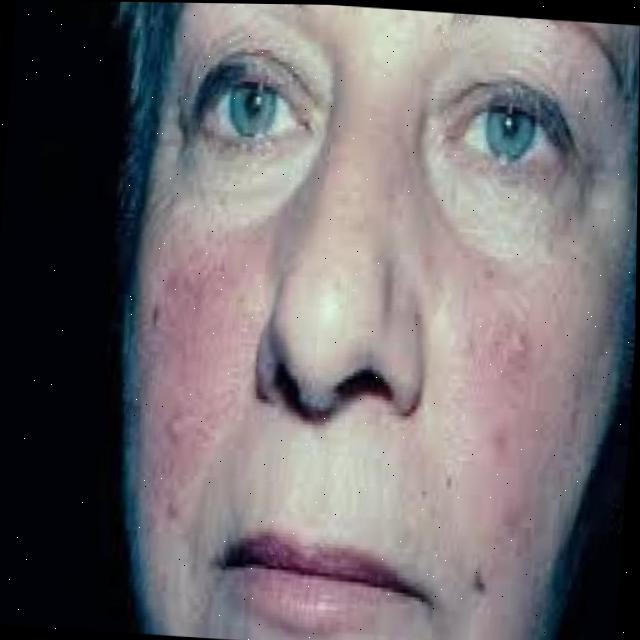Rosacea: (126, 247, 266, 528), (447, 309, 565, 557)
